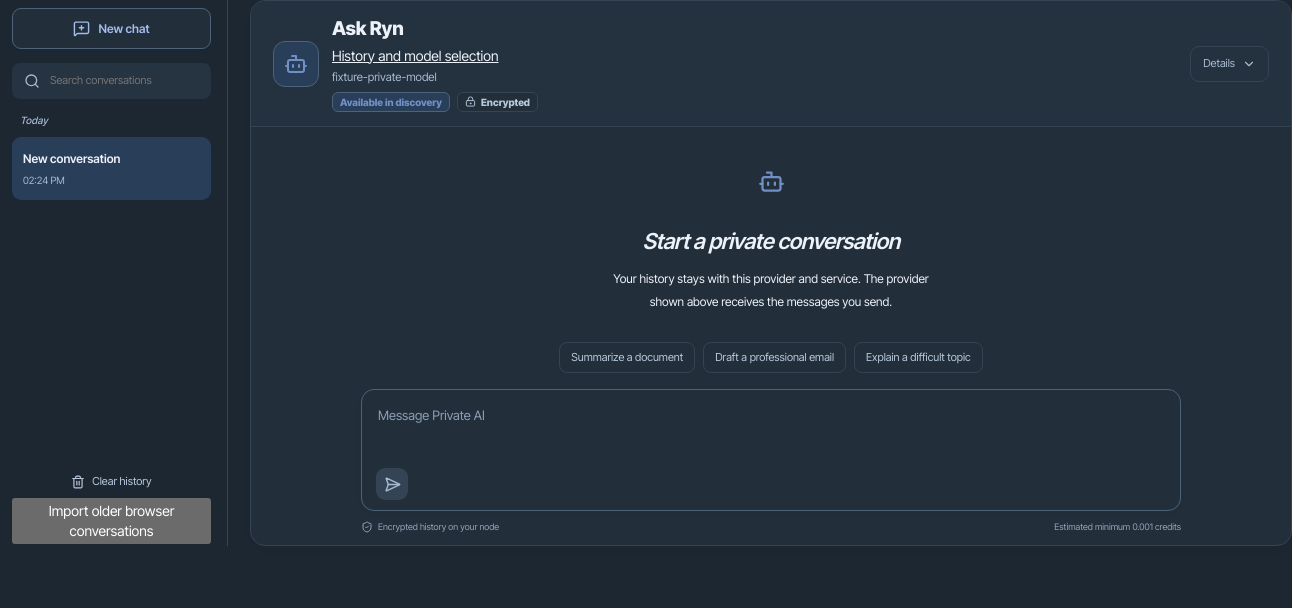
Test: Private AI chat › keeps input and does not submit when node history cannot be saved
expect the heading "Ask Ryn" is shown: met, box top-left (332, 17), bottom-right (404, 40)
Type "Keep this draft" into the text box labelled "Message Private AI" at {"x": 771, "y": 433}, box top-left (376, 402), bottom-right (1166, 464)
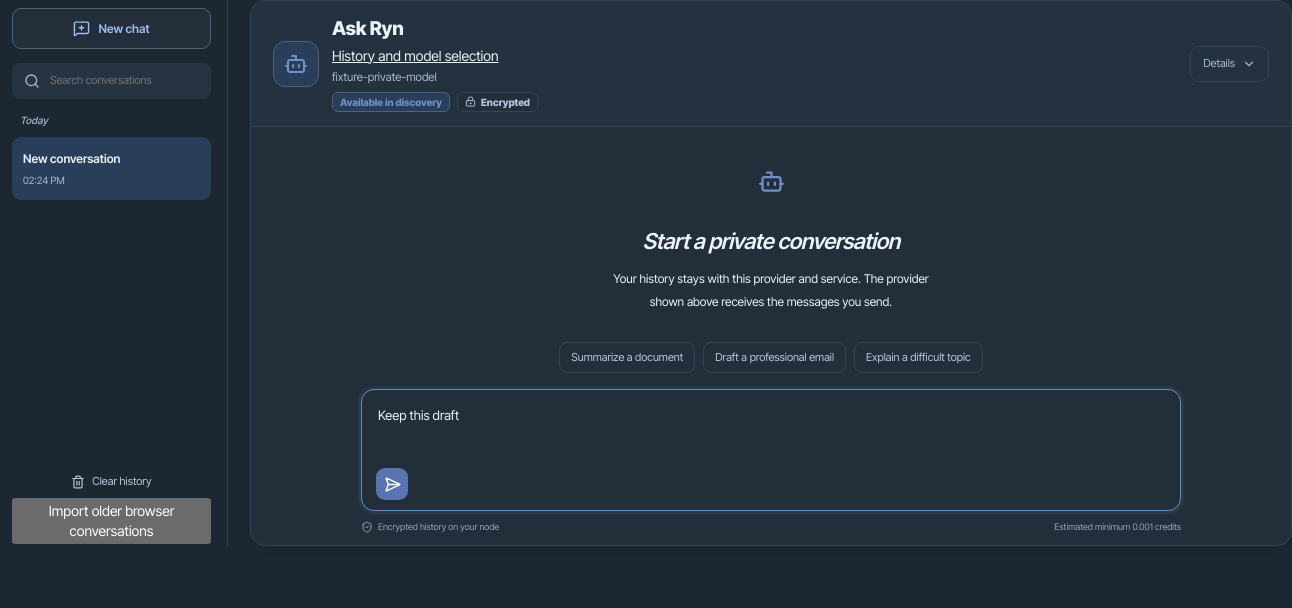
Click the button named "Send message" at {"x": 392, "y": 484}, box top-left (376, 468), bottom-right (408, 500)
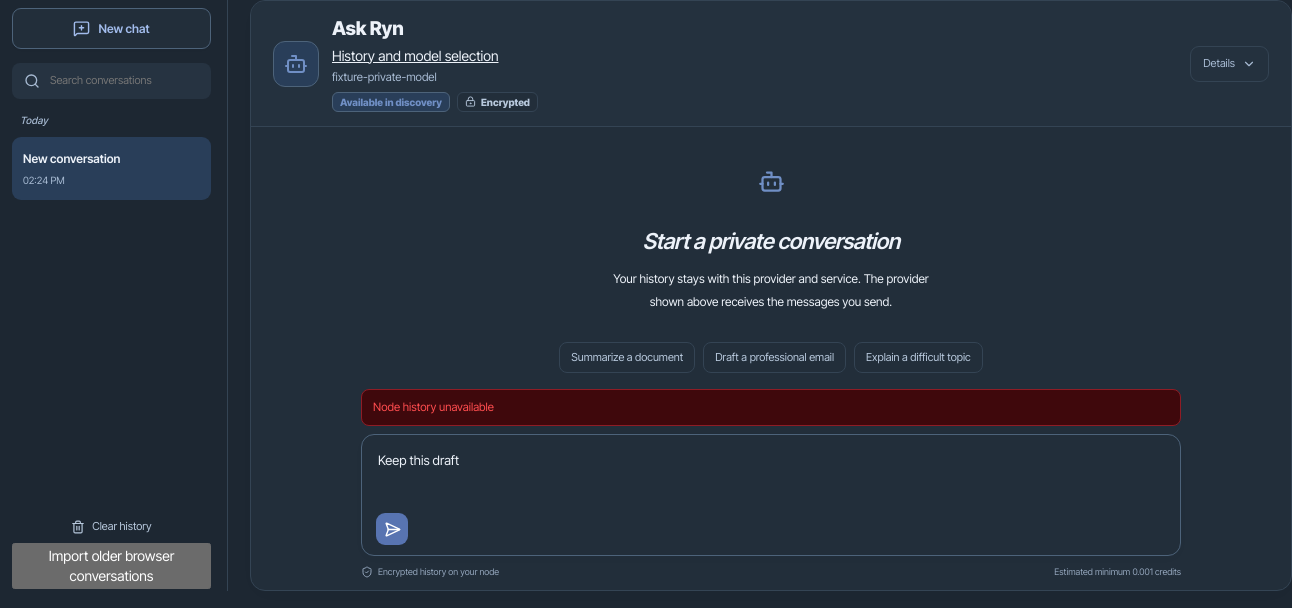
expect the message reads "Node history unavailable": met, box top-left (373, 400), bottom-right (494, 414)
